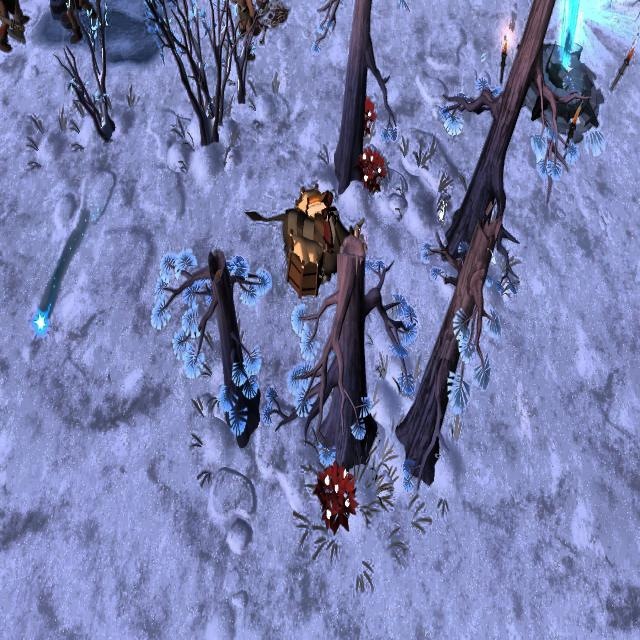fiber_t5: (313, 462, 357, 536), (357, 147, 388, 194), (360, 96, 378, 134)
